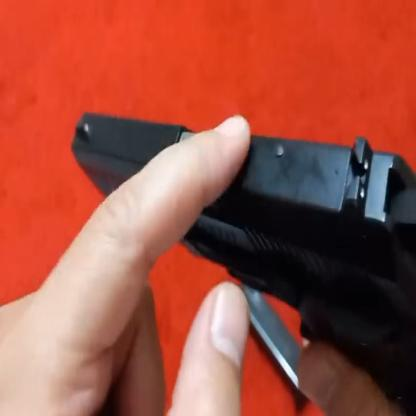handgun: (70, 89, 416, 347)
